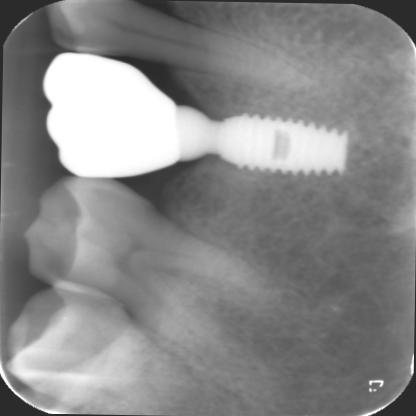Bicon: (160, 94, 361, 190)
